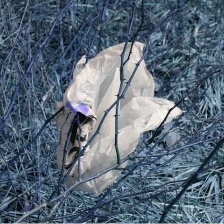plastic_bag: (48, 38, 186, 200)
